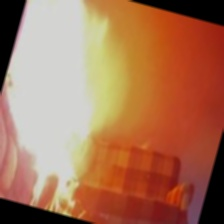fire: (0, 0, 144, 199)
